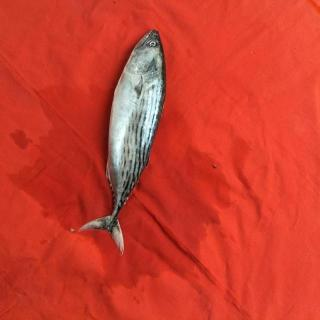Ikan: (74, 24, 192, 253)
